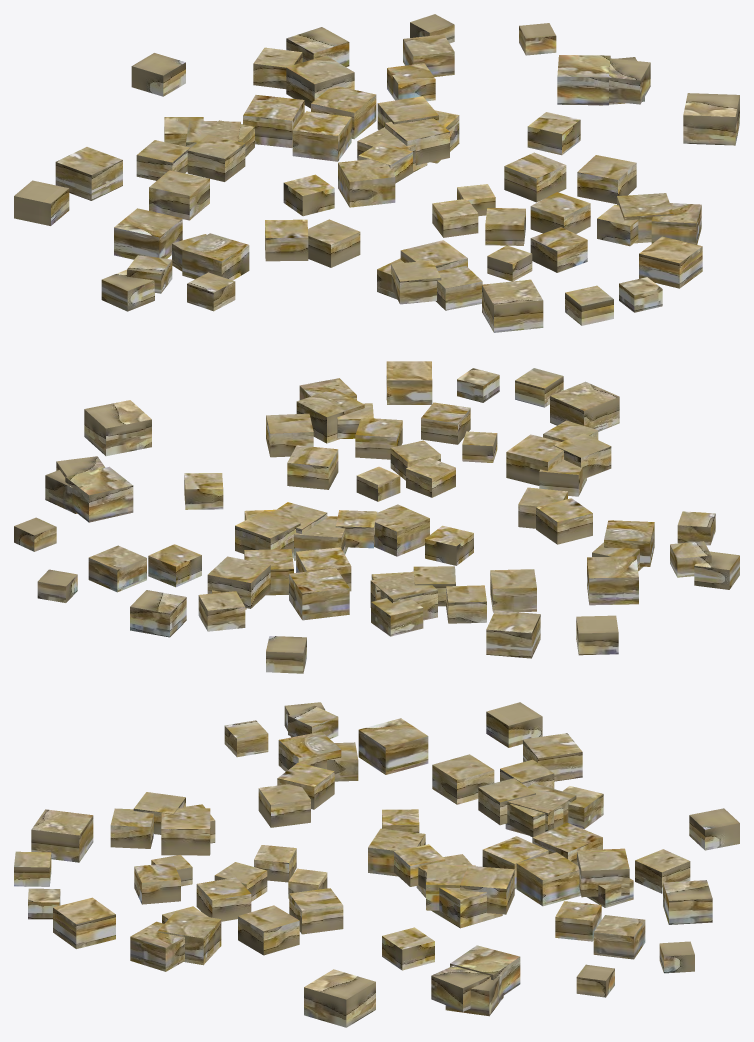
Rendered from onion.glb.
The picture shows the model from 3 angles, top to bottom: view 1: azimuth 30°, elevation 25°; view 2: azimuth 150°, elevation 25°; view 3: azimuth 270°, elevation 25°; orthographic projection. The views are drawn at different scales.
Visible parts, largest first — view 1: onion; view 2: onion; view 3: onion.
Part boxes in pixels (<box>): onion: <box>14,14,739,332</box>; onion: <box>14,361,739,673</box>; onion: <box>14,702,739,1027</box>.
Size of the model in its own units: 8.58 by 0.4763 by 8.39.
Materials: 1 (1 with a texture image).
